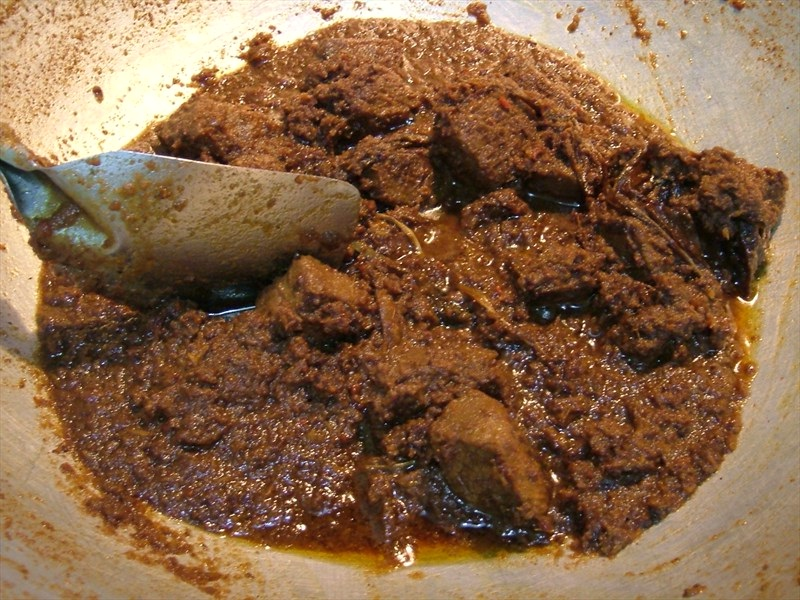Rendang: (147, 54, 718, 556)
